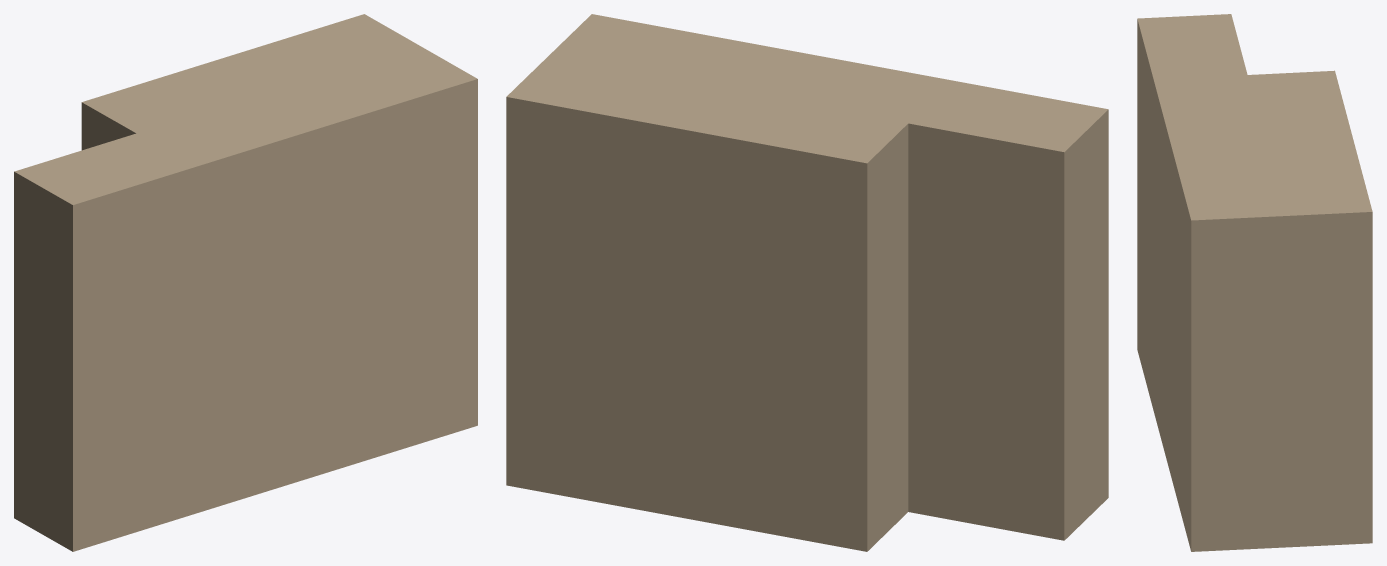
Rendered from bld_101572472.dae.
The picture shows the model from 3 angles, left to right: view 1: azimuth 30°, elevation 25°; view 2: azimuth 150°, elevation 25°; view 3: azimuth 270°, elevation 25°; orthographic projection. The views are drawn at different scales.
Parts seen in each view (by area): view 1: bld_101572472; view 2: bld_101572472; view 3: bld_101572472.
Part boxes in pixels (<box>): bld_101572472: <box>14,14,477,551</box>; bld_101572472: <box>506,14,1108,551</box>; bld_101572472: <box>1137,14,1372,551</box>.
Bounding box in the file's own units: 10.69 × 5.15 × 8.
